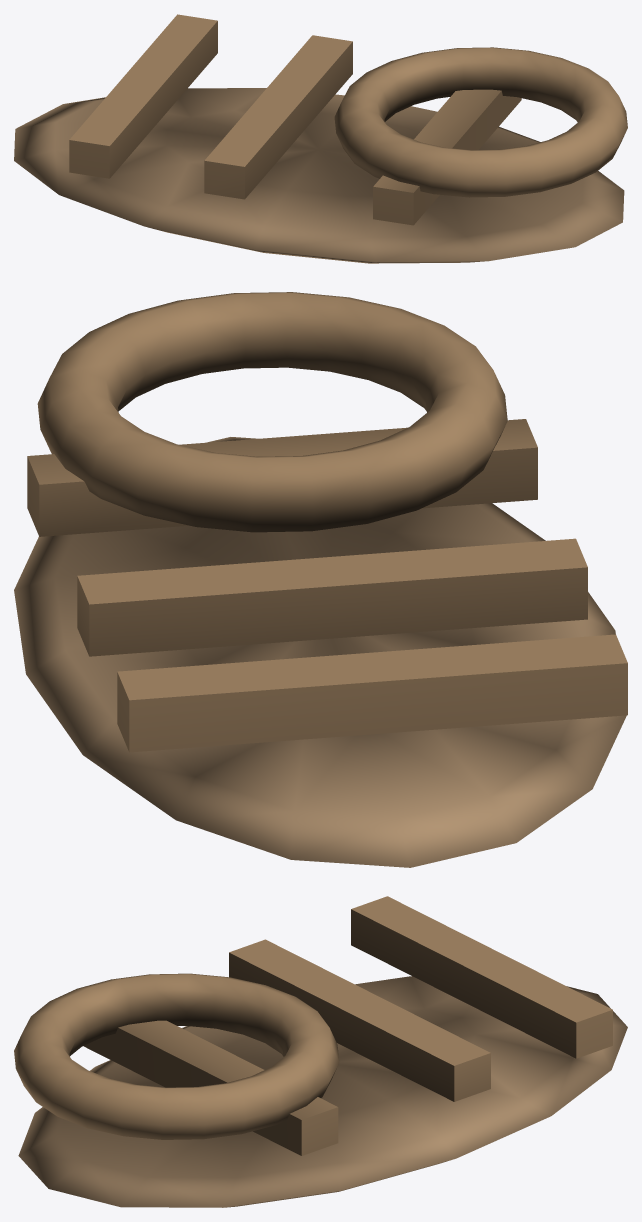
The model's file is desert_feet.fbx.
3 renders of one model, top to bottom at view 1: azimuth 30°, elevation 25°; view 2: azimuth 150°, elevation 25°; view 3: azimuth 270°, elevation 25°, orthographic. The views are drawn at different scales.
Visible parts, largest first — view 1: desert_feet; view 2: desert_feet; view 3: desert_feet.
Part boxes in pixels (x1=…): desert_feet: x1=14, y1=14, x2=627, y2=263; desert_feet: x1=14, y1=292, x2=627, y2=867; desert_feet: x1=14, y1=896, x2=627, y2=1207.
Size of the model in its own units: 0.7134 by 0.195 by 0.7705.
